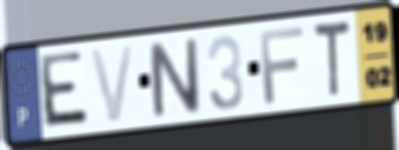3: (205, 32, 245, 113)
E: (39, 48, 92, 131)
F: (257, 24, 307, 107)
N: (145, 35, 204, 121)
T: (311, 17, 353, 101)
V: (87, 41, 137, 126)
